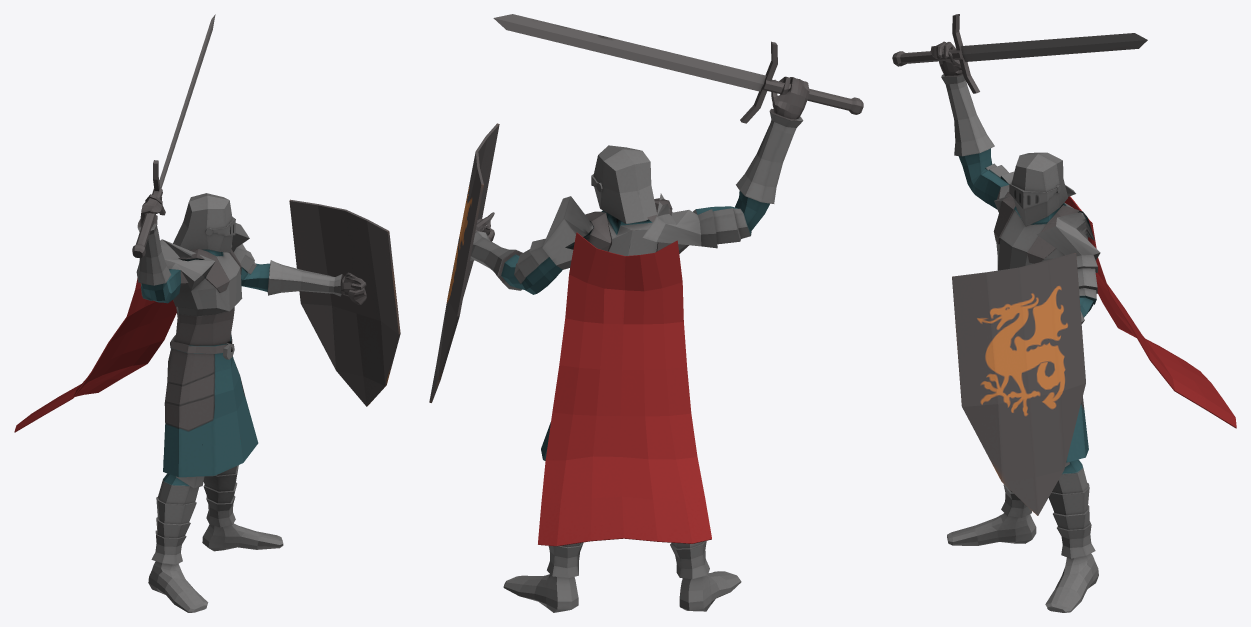
Rendered from cavalry-knight.bak.glb.
3 renders of one model, left to right at view 1: azimuth 30°, elevation 25°; view 2: azimuth 150°, elevation 25°; view 3: azimuth 270°, elevation 25°, orthographic. The views are drawn at different scales.
Parts seen in each view (by area): view 1: Armor.001, Shield.001, Cape.001, Helmet.001, Sword.001; view 2: Cape.001, Armor.001, Sword.001, Shield.001, Helmet.001; view 3: Shield.001, Armor.001, Sword.001, Cape.001, Helmet.001, Visor.001.
Boxes of the visible parts, box(x1,y1,x2,y2) form: Armor.001: box(136, 194, 366, 612); Shield.001: box(289, 199, 400, 406); Cape.001: box(14, 278, 176, 432); Helmet.001: box(173, 193, 232, 252); Sword.001: box(132, 14, 215, 258); Cape.001: box(538, 232, 711, 546); Armor.001: box(470, 76, 809, 612); Sword.001: box(493, 14, 863, 123); Shield.001: box(429, 123, 499, 402); Helmet.001: box(593, 145, 656, 223); Shield.001: box(952, 253, 1085, 515); Armor.001: box(930, 41, 1100, 612); Sword.001: box(892, 14, 1147, 93); Cape.001: box(1064, 196, 1236, 428); Helmet.001: box(1011, 152, 1067, 226); Visor.001: box(1009, 181, 1061, 209).
Size of the model in its own units: 146 by 236 by 131.
Materials: 1 (1 with a texture image).
